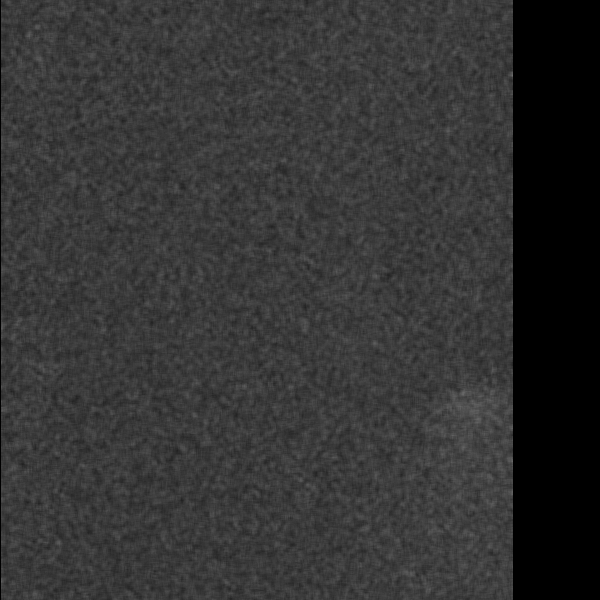spark: (305, 170, 359, 281), (306, 508, 344, 591), (440, 346, 471, 426), (495, 291, 517, 398), (172, 125, 202, 202), (315, 38, 341, 116), (106, 242, 138, 302), (37, 293, 72, 338), (312, 296, 343, 328), (300, 565, 326, 598)
